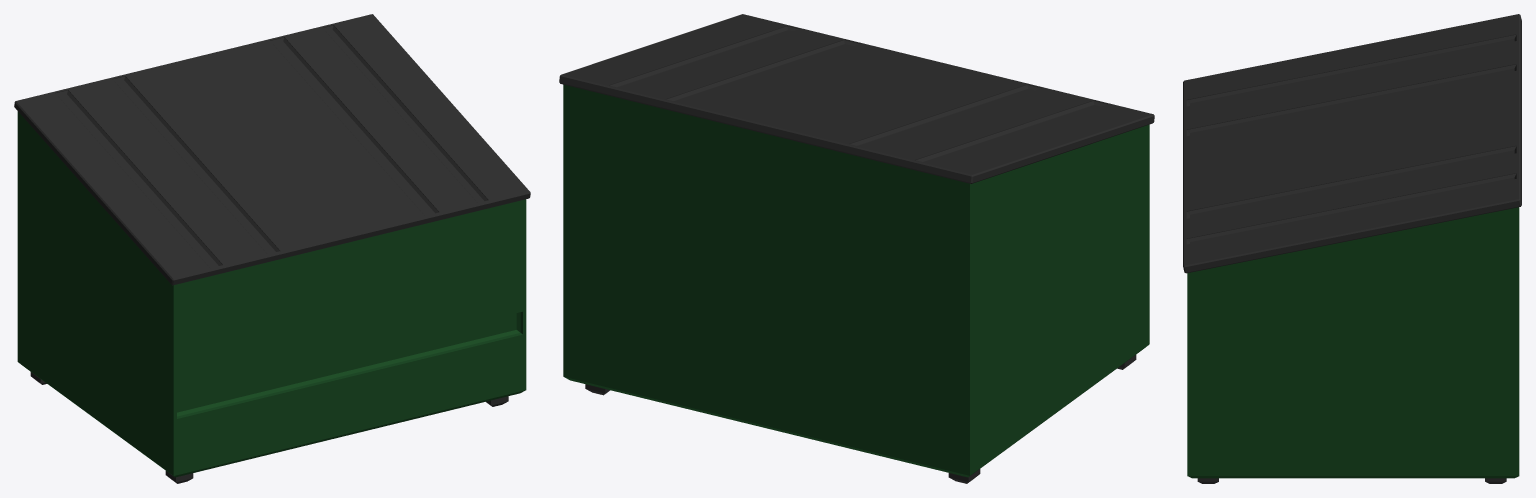
File: Dumpster.fbx
3 views of the same model, side by side, from view 1: azimuth 30°, elevation 25°; view 2: azimuth 150°, elevation 25°; view 3: azimuth 270°, elevation 25° (orthographic). The views are drawn at different scales.
Visible parts, largest first — view 1: Cube.001; view 2: Cube.001; view 3: Cube.001.
Part boxes in pixels (x1,y1,x2,y2): Cube.001: (14,14,530,483); Cube.001: (559,14,1154,483); Cube.001: (1183,14,1521,483).
Size of the model in its own units: 750 by 554 by 577.
